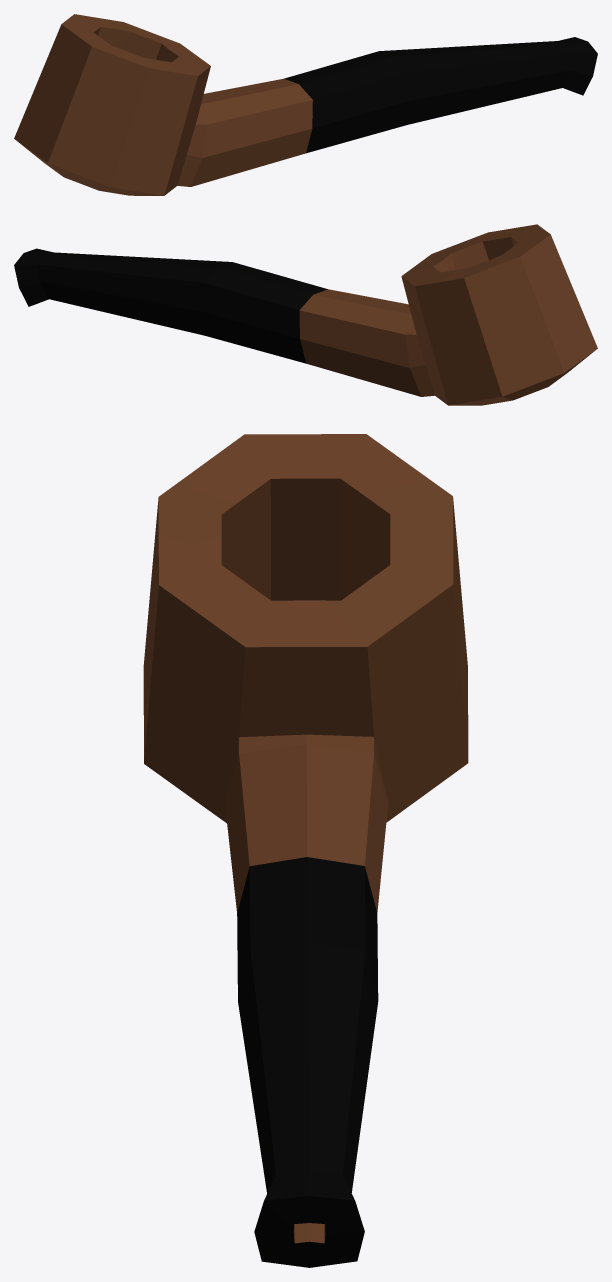
File: Wood Pipe Overlay.obj
3 renders of one model, top to bottom at view 1: azimuth 30°, elevation 25°; view 2: azimuth 150°, elevation 25°; view 3: azimuth 270°, elevation 25°, orthographic. The views are drawn at different scales.
Visible parts, largest first — view 1: Overlay; view 2: Overlay; view 3: Overlay.
Boxes of the visible parts, x1,y1,x2,y2 form: Overlay: (14, 14, 597, 195); Overlay: (14, 224, 597, 405); Overlay: (143, 434, 468, 1267).
Size of the model in its own units: 0.1517 by 0.0459 by 0.0383.
